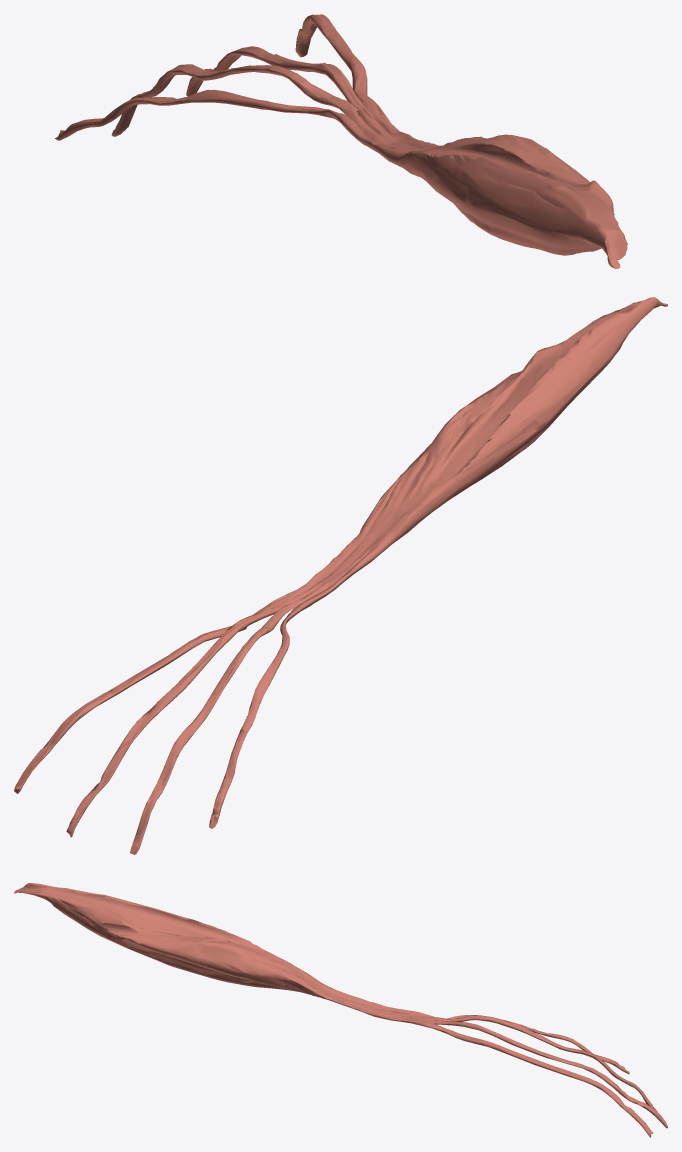
3 views of the same model, one above another, from view 1: azimuth 30°, elevation 25°; view 2: azimuth 150°, elevation 25°; view 3: azimuth 270°, elevation 25° (orthographic). The views are drawn at different scales.
Parts seen in each view (by area): view 1: 左侧指深屈肌; view 2: 左侧指深屈肌; view 3: 左侧指深屈肌.
Boxes of the visible parts, <box> form: 左侧指深屈肌: <box>55,14,627,268</box>; 左侧指深屈肌: <box>14,297,667,854</box>; 左侧指深屈肌: <box>14,883,667,1137</box>.
Bounding box in the file's own units: 0.1569 × 0.1798 × 0.5378.
